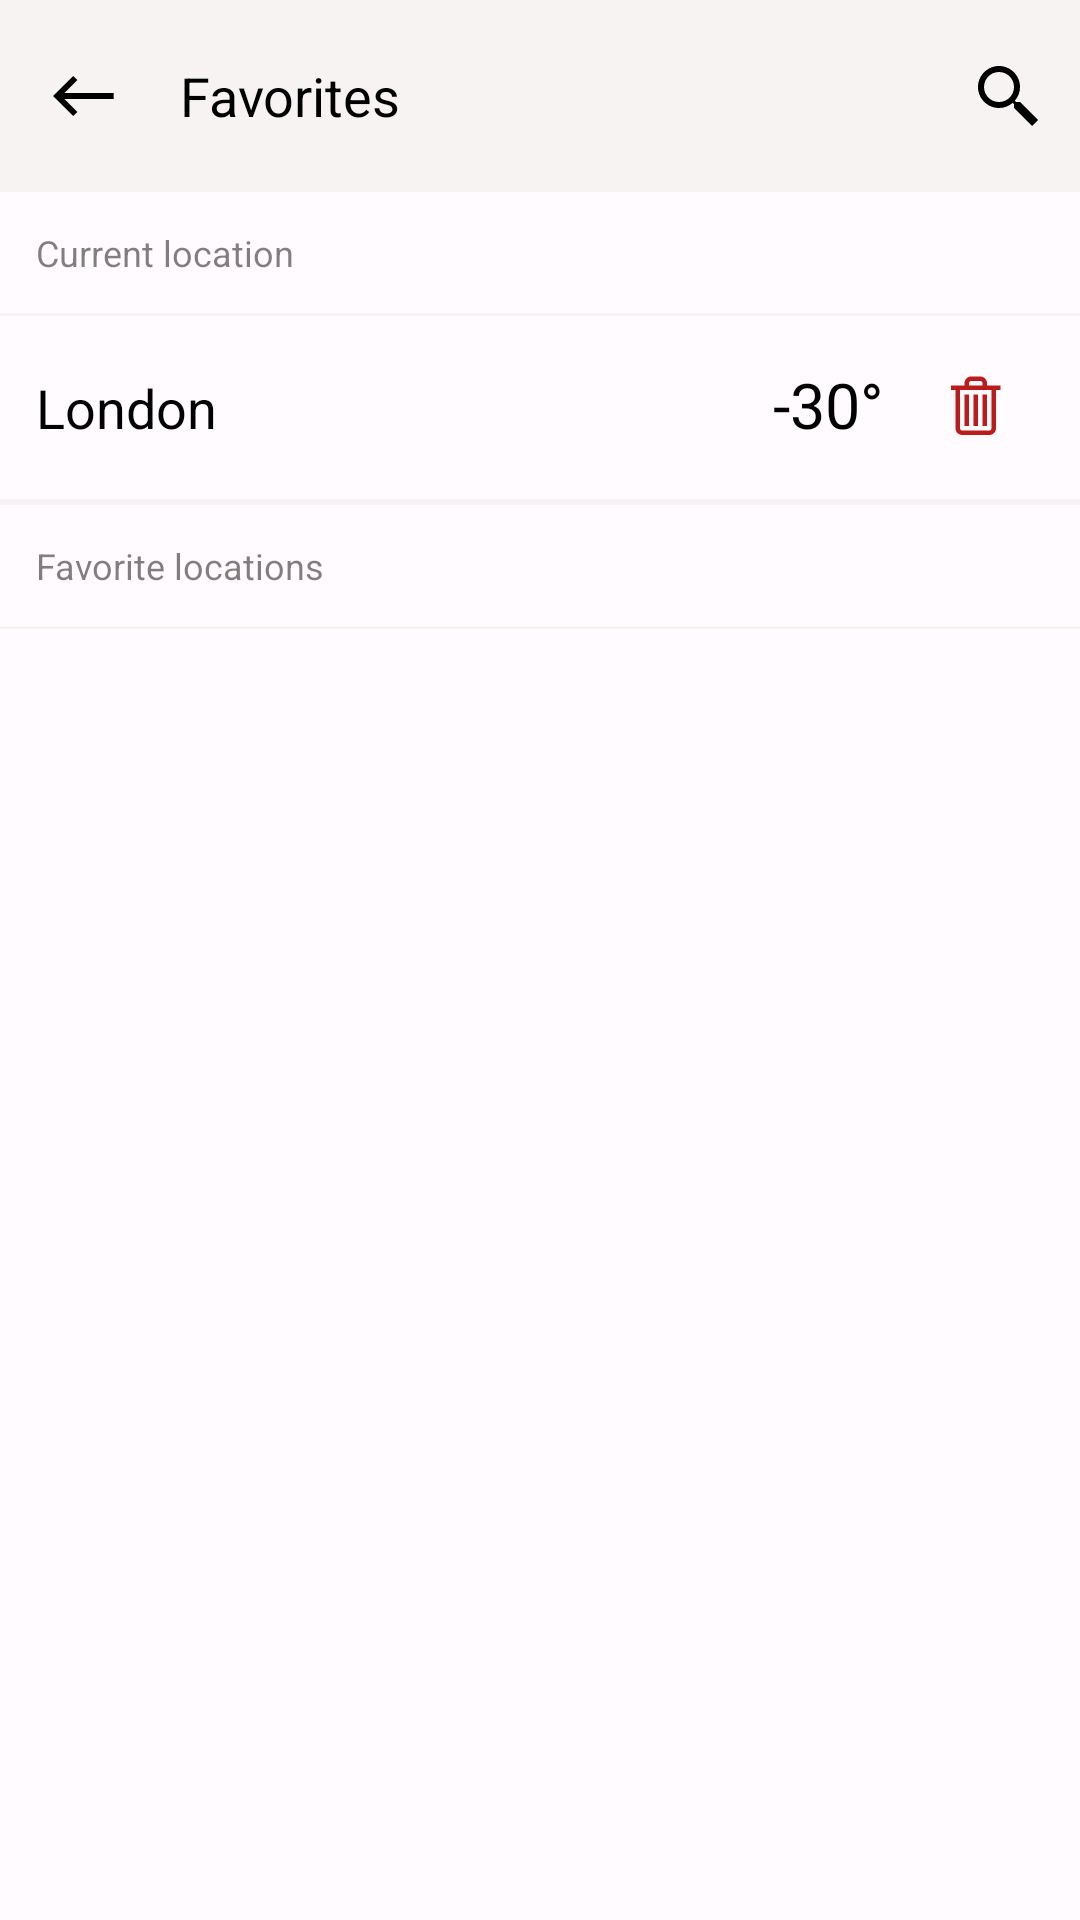

Where to tap for icons on this 1080×1920 app screen, as (x,y):
trash: (976,405)
